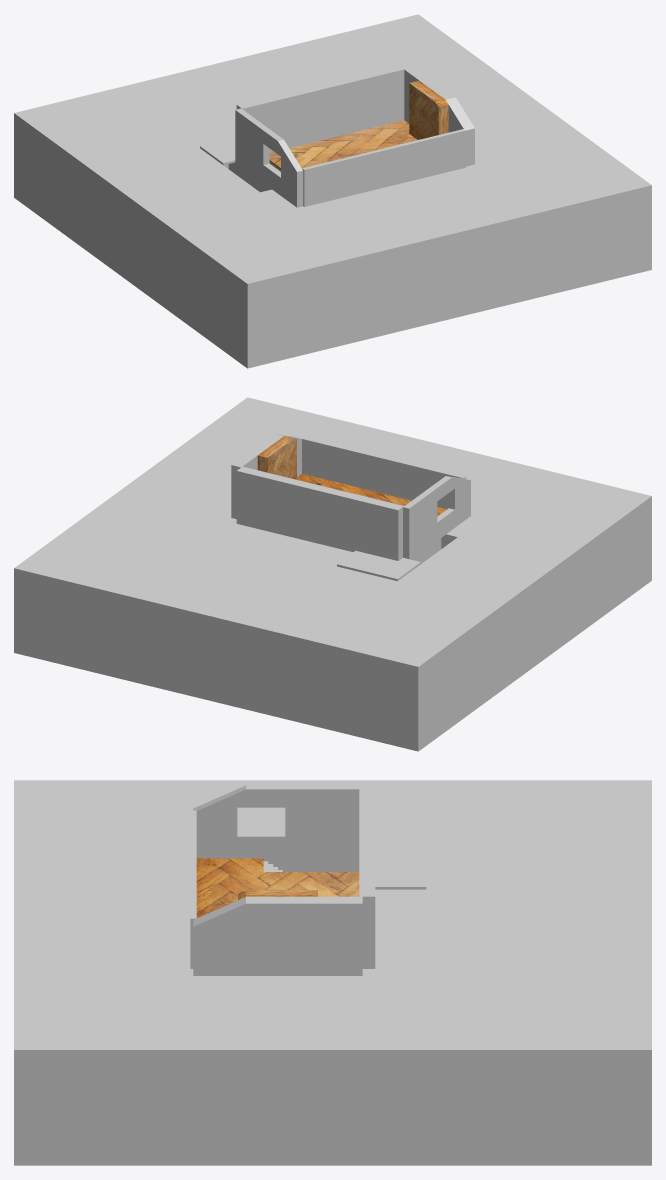
Rendered from house_finish.FBX.
The picture shows the model from 3 angles, top to bottom: view 1: azimuth 30°, elevation 25°; view 2: azimuth 150°, elevation 25°; view 3: azimuth 270°, elevation 25°; orthographic projection. The views are drawn at different scales.
Visible parts, largest first — view 1: ground, back wall, front wall, left wall, floor, wooden wall, right wall, down roof; view 2: ground, back wall, front wall, left wall, down roof, wooden wall, right wall, floor; view 3: ground, right wall, left wall, floor, back wall, down roof, front wall, down wall 1, wooden wall.
Part boxes in pixels (x1=…): ground: x1=14, y1=14, x2=651, y2=368; back wall: x1=236, y1=65, x2=404, y2=152; front wall: x1=302, y1=129, x2=465, y2=206; left wall: x1=235, y1=108, x2=303, y2=207; floor: x1=269, y1=120, x2=417, y2=169; wooden wall: x1=409, y1=80, x2=448, y2=139; right wall: x1=403, y1=66, x2=474, y2=166; down roof: x1=200, y1=137, x2=235, y2=165; ground: x1=14, y1=397, x2=651, y2=751; back wall: x1=236, y1=466, x2=403, y2=560; front wall: x1=302, y1=437, x2=465, y2=509; left wall: x1=403, y1=476, x2=470, y2=559; down roof: x1=337, y1=550, x2=420, y2=581; wooden wall: x1=257, y1=436, x2=296, y2=479; right wall: x1=231, y1=434, x2=301, y2=518; floor: x1=297, y1=474, x2=446, y2=516; ground: x1=14, y1=780, x2=651, y2=1165; right wall: x1=193, y1=896, x2=362, y2=975; left wall: x1=193, y1=785, x2=362, y2=861; floor: x1=196, y1=858, x2=359, y2=918; back wall: x1=359, y1=789, x2=375, y2=968; down roof: x1=375, y1=846, x2=426, y2=889; front wall: x1=190, y1=810, x2=196, y2=968; down wall 1: x1=268, y1=861, x2=359, y2=871; wooden wall: x1=238, y1=890, x2=317, y2=900.
Size of the model in its own units: 20 by 6.5 by 20.
